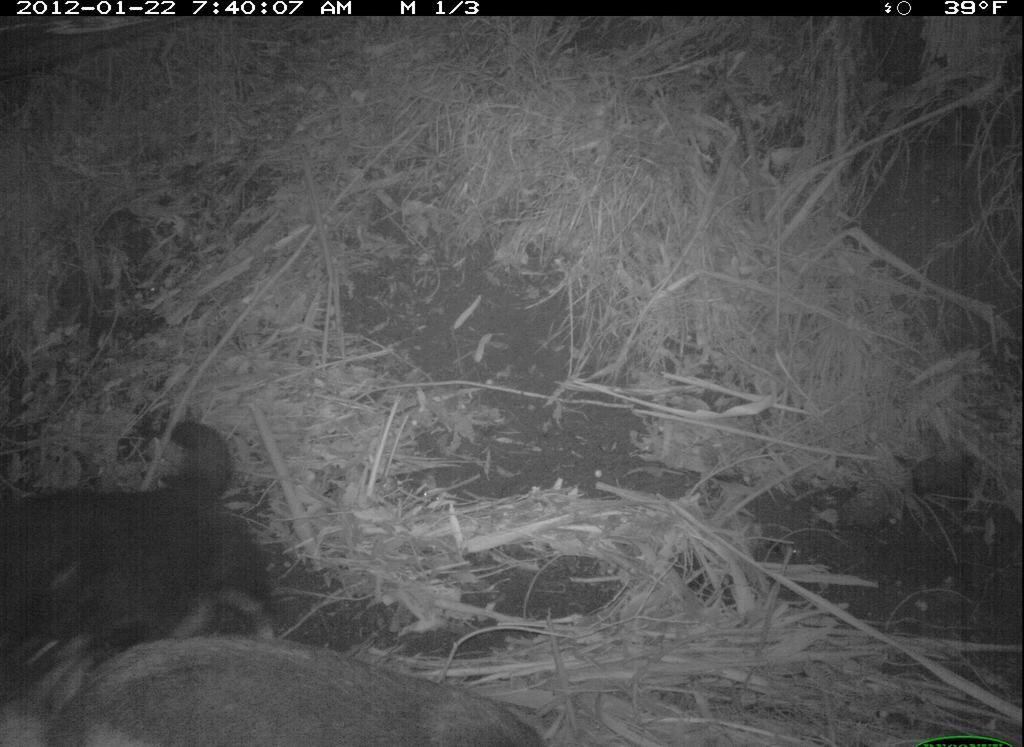dog: (3, 418, 299, 705)
